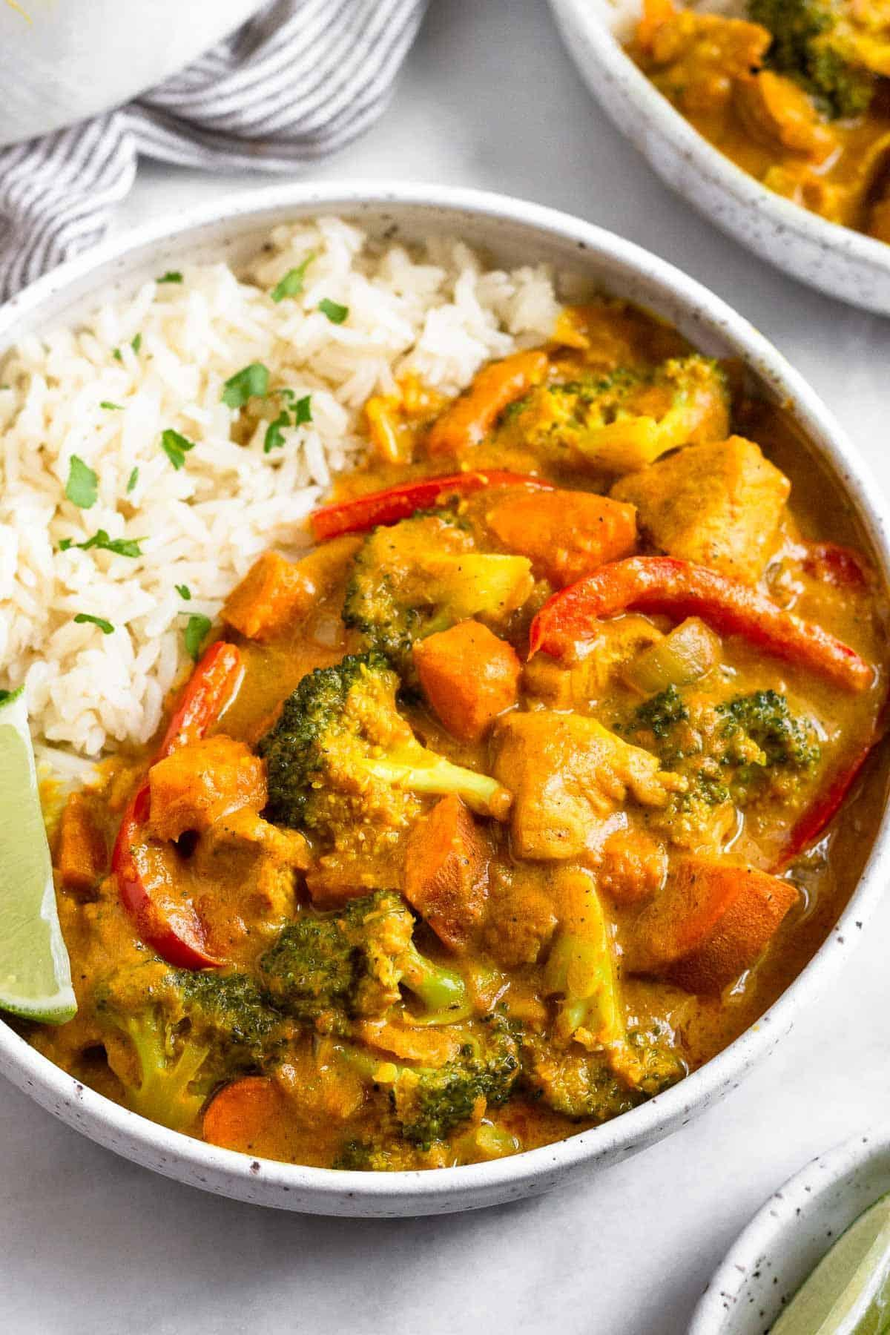chicken: (122, 350, 812, 1127)
rice: (37, 176, 222, 733)
